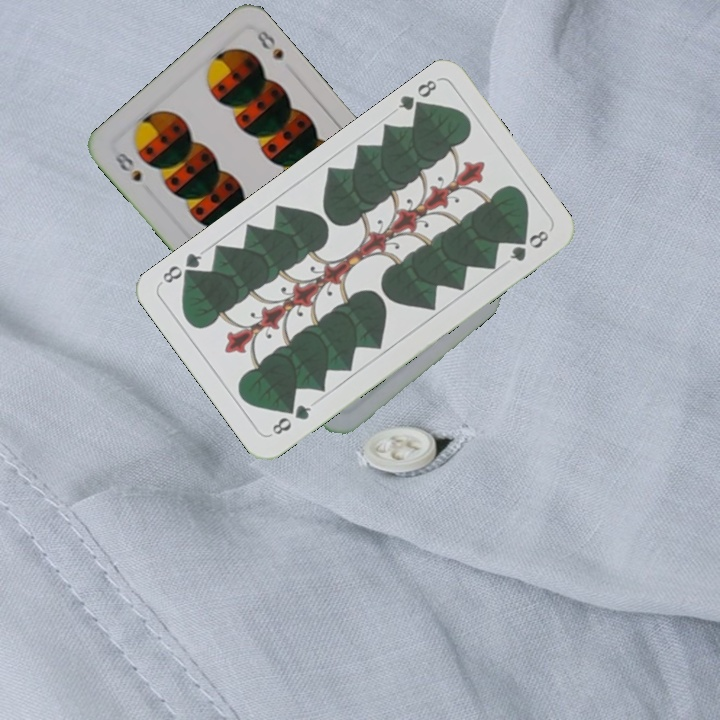G8: (394, 75, 440, 118), (267, 400, 314, 438)
S8: (110, 148, 145, 185)
